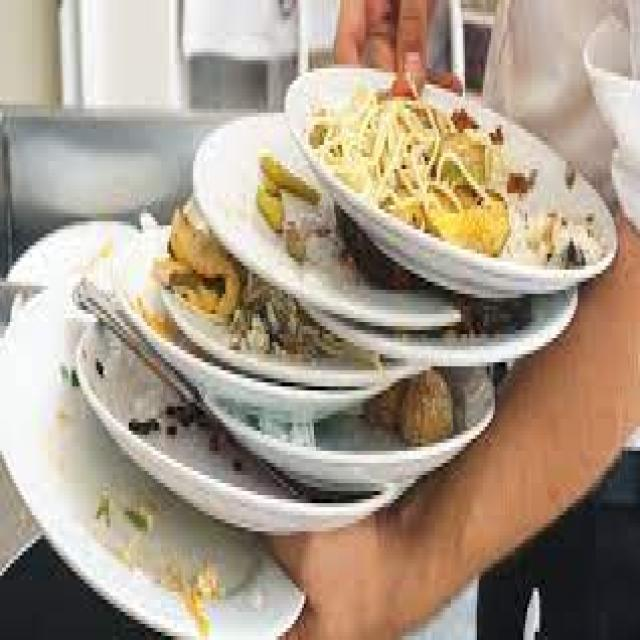Wet: (308, 69, 612, 280), (252, 142, 329, 272)
